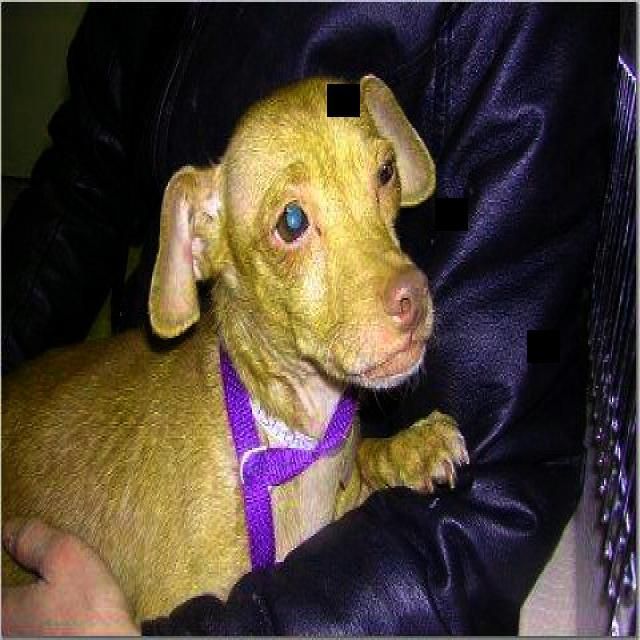puppy-dog: (0, 74, 469, 623)
